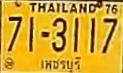1: (28, 16, 34, 51), (73, 17, 78, 52), (89, 18, 94, 52)
3: (51, 17, 67, 51)
7: (102, 17, 117, 53), (8, 16, 22, 51)
PBI: (37, 56, 83, 72)
